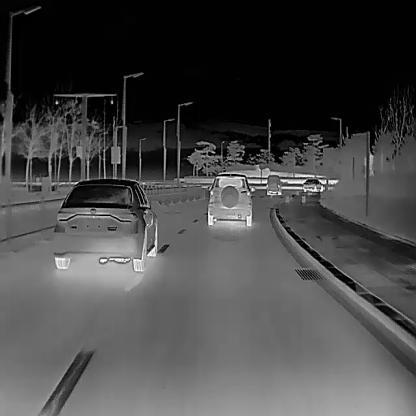car: (52, 176, 157, 271), (205, 170, 254, 225), (303, 175, 325, 192), (266, 174, 281, 194)
